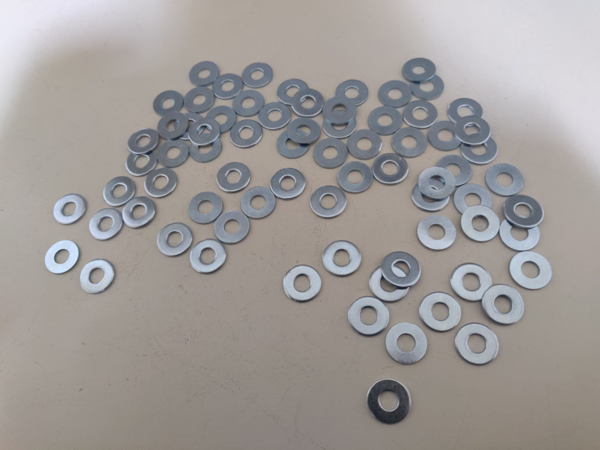circle: (367, 380, 412, 426), (455, 324, 498, 366), (347, 296, 390, 337), (386, 324, 428, 365), (483, 284, 524, 326), (509, 251, 552, 290), (419, 293, 462, 331), (451, 264, 493, 302), (283, 265, 323, 304), (462, 206, 502, 243), (380, 251, 421, 287), (500, 215, 540, 251), (503, 196, 545, 230), (370, 266, 409, 302), (322, 241, 362, 276), (418, 215, 456, 251), (411, 178, 450, 213), (240, 186, 277, 221), (309, 185, 347, 219), (80, 259, 115, 295), (418, 167, 456, 200), (371, 153, 409, 186), (191, 239, 226, 274), (158, 223, 193, 258), (454, 184, 490, 218), (214, 211, 250, 245), (188, 192, 224, 226), (336, 162, 373, 195), (486, 164, 524, 196), (269, 168, 307, 200), (459, 134, 498, 165), (391, 127, 428, 159), (45, 241, 79, 275), (216, 161, 251, 194), (89, 208, 124, 240), (187, 132, 222, 164), (435, 156, 471, 187), (313, 139, 349, 170), (122, 197, 156, 229), (428, 121, 463, 152), (367, 106, 402, 137), (403, 99, 437, 130), (54, 194, 88, 225), (229, 119, 263, 150), (103, 177, 138, 207), (335, 80, 370, 110), (276, 129, 311, 159), (173, 112, 205, 144), (157, 138, 190, 169), (258, 102, 292, 132), (455, 117, 490, 146), (449, 98, 484, 127), (378, 80, 413, 109), (205, 105, 237, 136), (145, 168, 178, 198), (188, 118, 221, 148), (323, 111, 358, 139), (411, 73, 445, 101), (288, 118, 322, 146), (157, 111, 188, 141), (183, 87, 215, 116), (323, 97, 357, 124), (292, 90, 326, 117), (233, 90, 265, 118), (125, 149, 157, 177), (127, 128, 158, 156), (278, 79, 310, 106), (153, 91, 184, 118), (403, 58, 436, 83), (243, 63, 273, 90), (189, 61, 219, 88), (213, 74, 243, 100)
